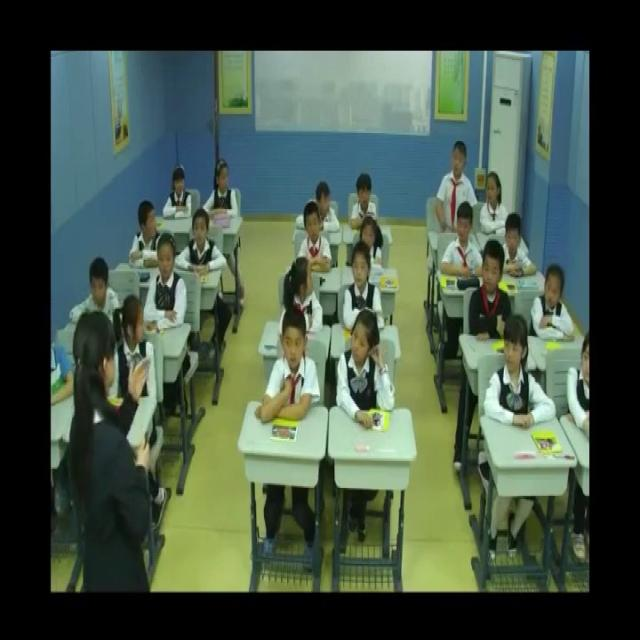distracted: (113, 296, 156, 404), (278, 252, 326, 336), (130, 195, 164, 262), (300, 183, 338, 232)
focused: (485, 312, 555, 432), (258, 303, 314, 418), (339, 312, 390, 423), (144, 231, 186, 336), (469, 239, 512, 340), (435, 144, 477, 240), (528, 266, 575, 343), (343, 252, 384, 332), (175, 213, 226, 277), (438, 207, 482, 280), (73, 262, 118, 328), (497, 217, 541, 284), (206, 154, 240, 222), (302, 197, 332, 274), (358, 211, 388, 274), (480, 169, 509, 230), (163, 165, 194, 221), (350, 173, 378, 232)
